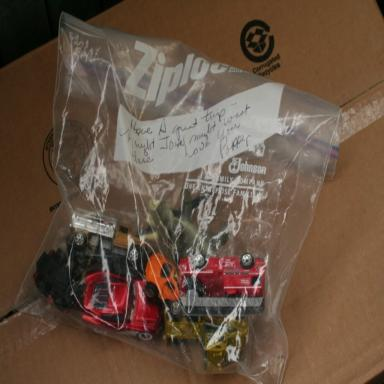plasticbag: (36, 10, 345, 381)
